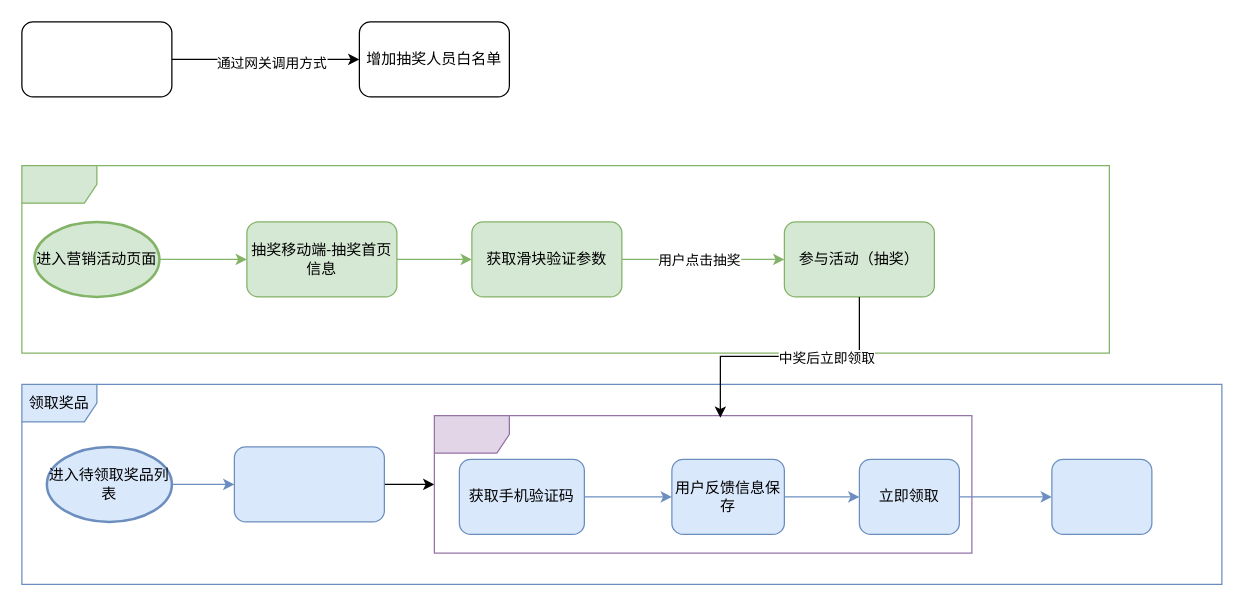
Some shapes in this 1244 by 606 pixel diagram are drawn without their labels. The shapes that lost their labels are listed below. From the top down, each one's box as (x1, y1, x2, y2) in pixels, then its label:
(21, 21, 172, 97): 业务系统
(21, 164, 1109, 353): 参与活动
(233, 446, 384, 522): 获取指定用户未领取奖品
(433, 414, 972, 553): 留资界面
(1051, 458, 1152, 534): 个人核销列表
